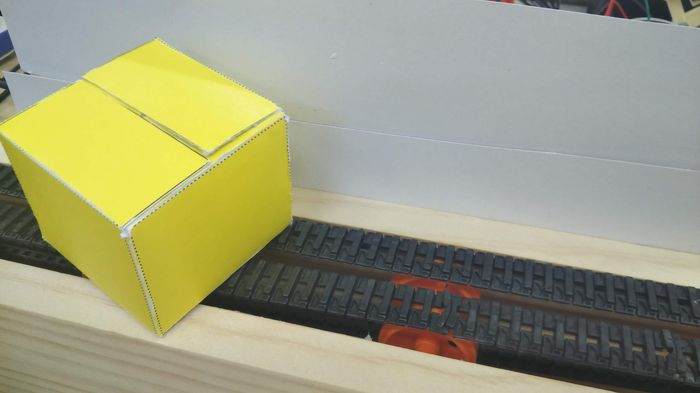box4: (0, 36, 294, 338)
